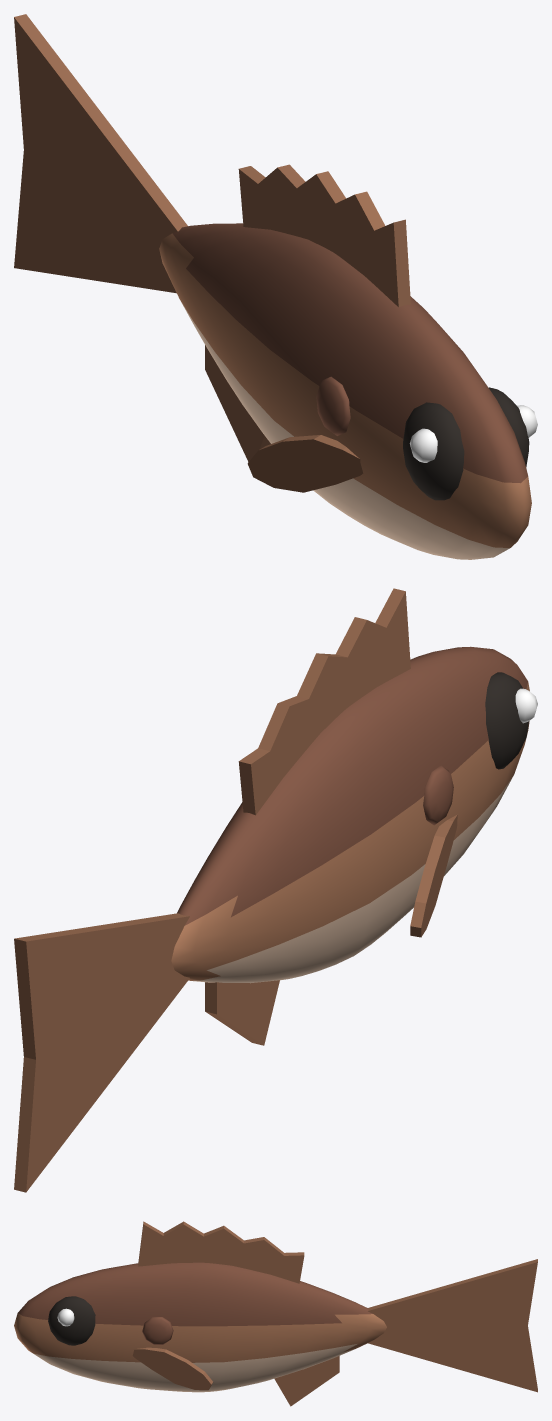
The model's file is fish-rockfish.glb.
3 views of the same model, one above another, from view 1: azimuth 30°, elevation 25°; view 2: azimuth 150°, elevation 25°; view 3: azimuth 270°, elevation 25° (orthographic). The views are drawn at different scales.
Visible parts, largest first — view 1: fish; view 2: fish; view 3: fish.
Boxes of the visible parts, box(x1,y1,x2,y2) form: fish: box(14, 14, 537, 559); fish: box(14, 588, 537, 1192); fish: box(14, 1221, 537, 1406).
Size of the model in its own units: 0.0855 by 0.1651 by 0.43.
